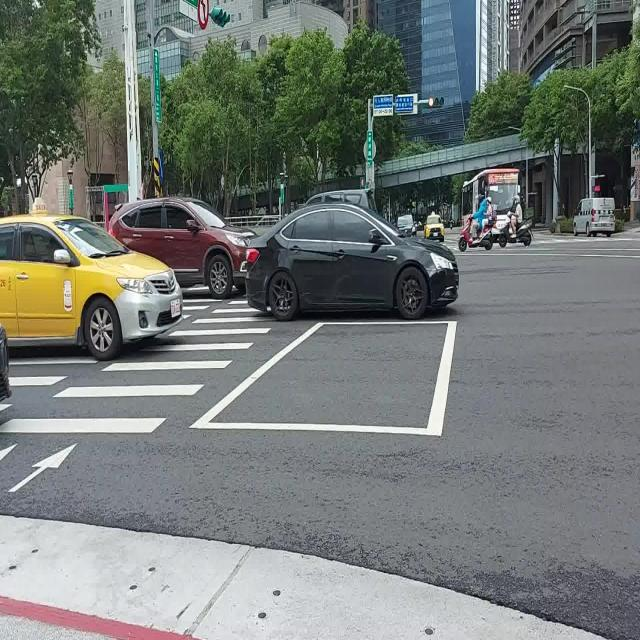bus: (461, 169, 519, 240)
car: (0, 213, 181, 360), (246, 204, 459, 320), (109, 198, 254, 298), (572, 198, 615, 238), (424, 213, 445, 242)
crosswalk: (0, 296, 269, 432), (0, 357, 98, 412), (184, 295, 224, 320)
motocycle: (459, 216, 494, 251), (499, 220, 532, 247)
